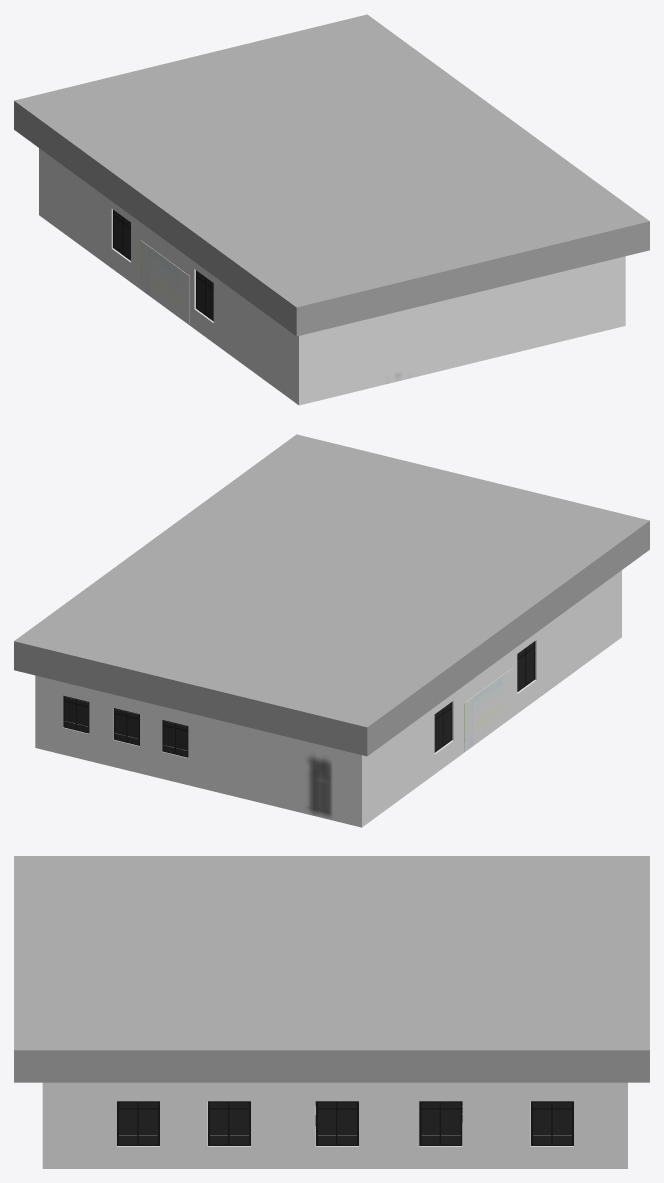
File: Dev-Banking-System.glb
3 views of the same model, one above another, from view 1: azimuth 30°, elevation 25°; view 2: azimuth 150°, elevation 25°; view 3: azimuth 270°, elevation 25° (orthographic). The views are drawn at different scales.
Visible parts, largest first — view 1: Dev-Banking-System; view 2: Dev-Banking-System; view 3: Dev-Banking-System.
Part boxes in pixels (box(x1,y1,x2,y2)): Dev-Banking-System: box(14, 14, 649, 405); Dev-Banking-System: box(14, 434, 649, 827); Dev-Banking-System: box(14, 856, 649, 1168).
Size of the model in its own units: 16.88 by 5.07 by 23.38.
34 materials, 25 textured.
